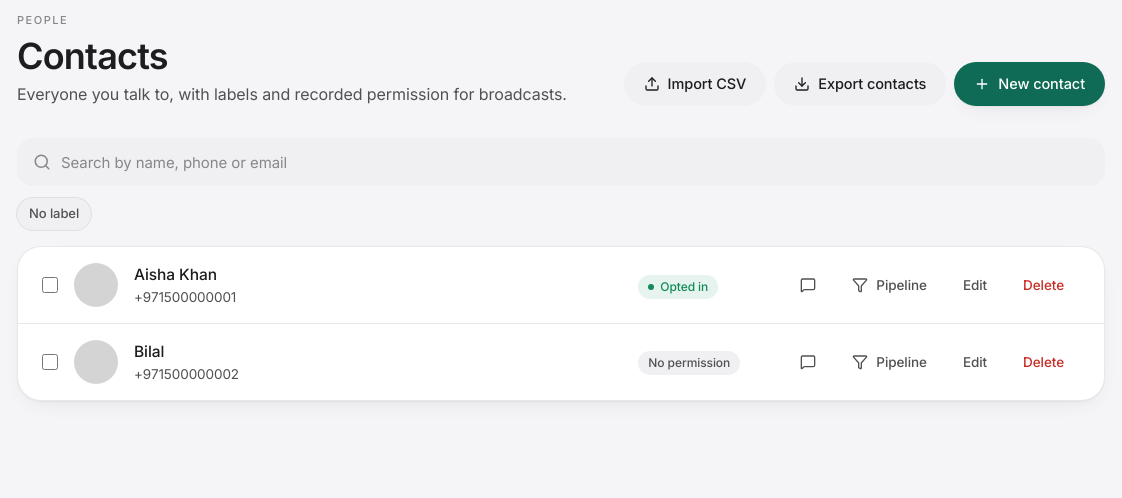
Test case: Contacts and the pipeline › clears a selection
Expected: the text "Aisha Khan" is shown, [134,265,217,284]
Click the checkbox named "Select Bilal". click: (50, 362)
box: [42,354,58,370]
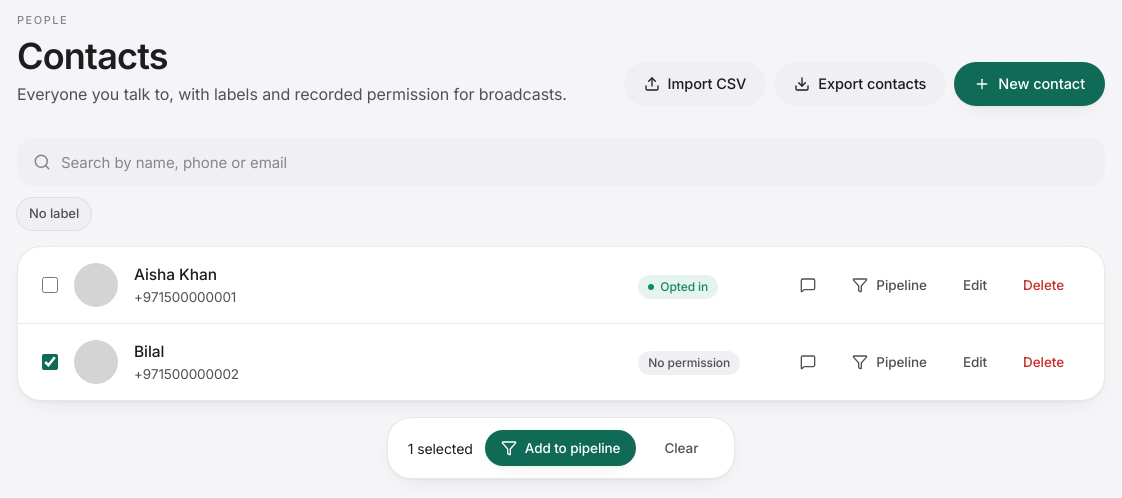
Click the button "Clear". click: (681, 448)
box: [648,430,714,466]
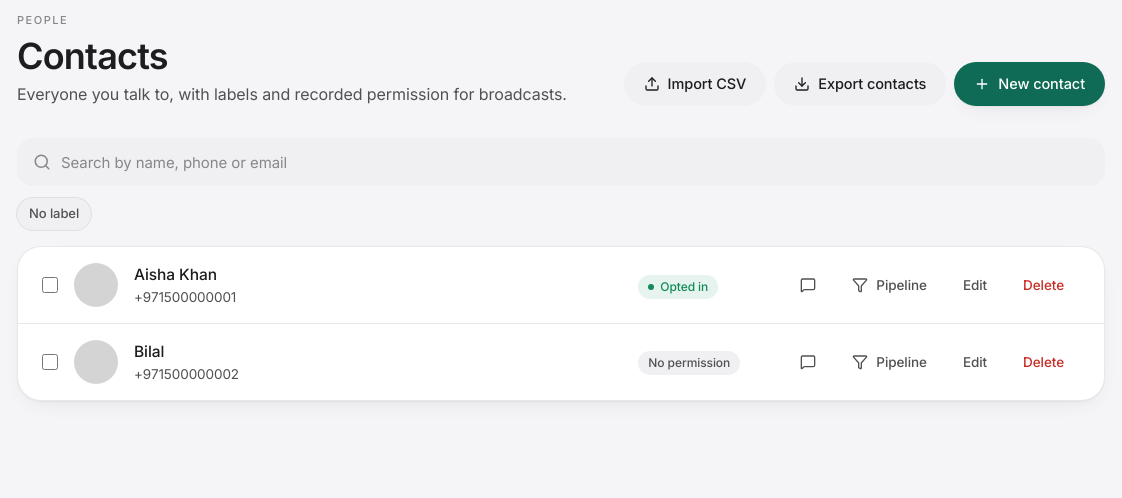
Now the text "selected" is gone
